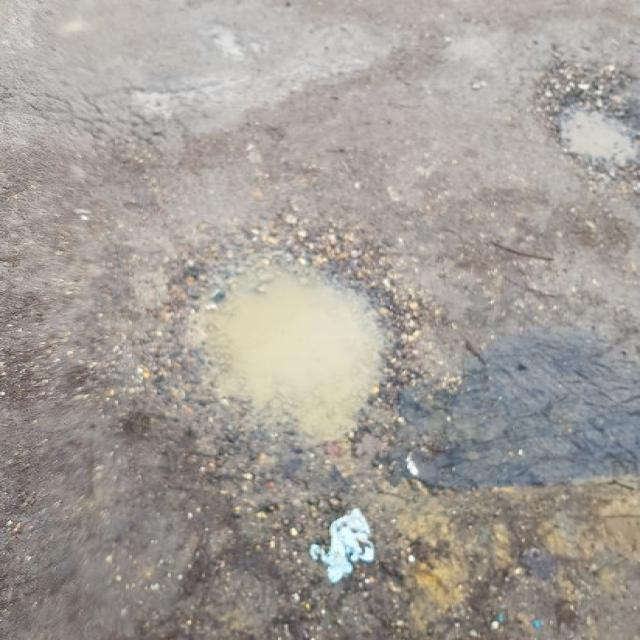Pothole: (147, 222, 427, 452), (534, 57, 638, 171)
